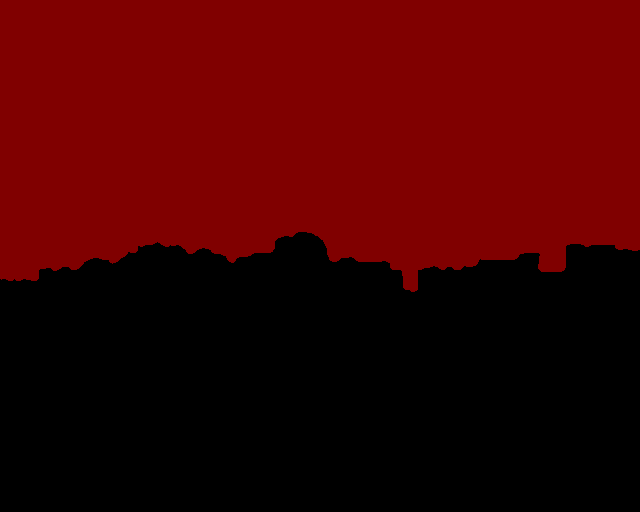Sky: (1, 1, 639, 291)
